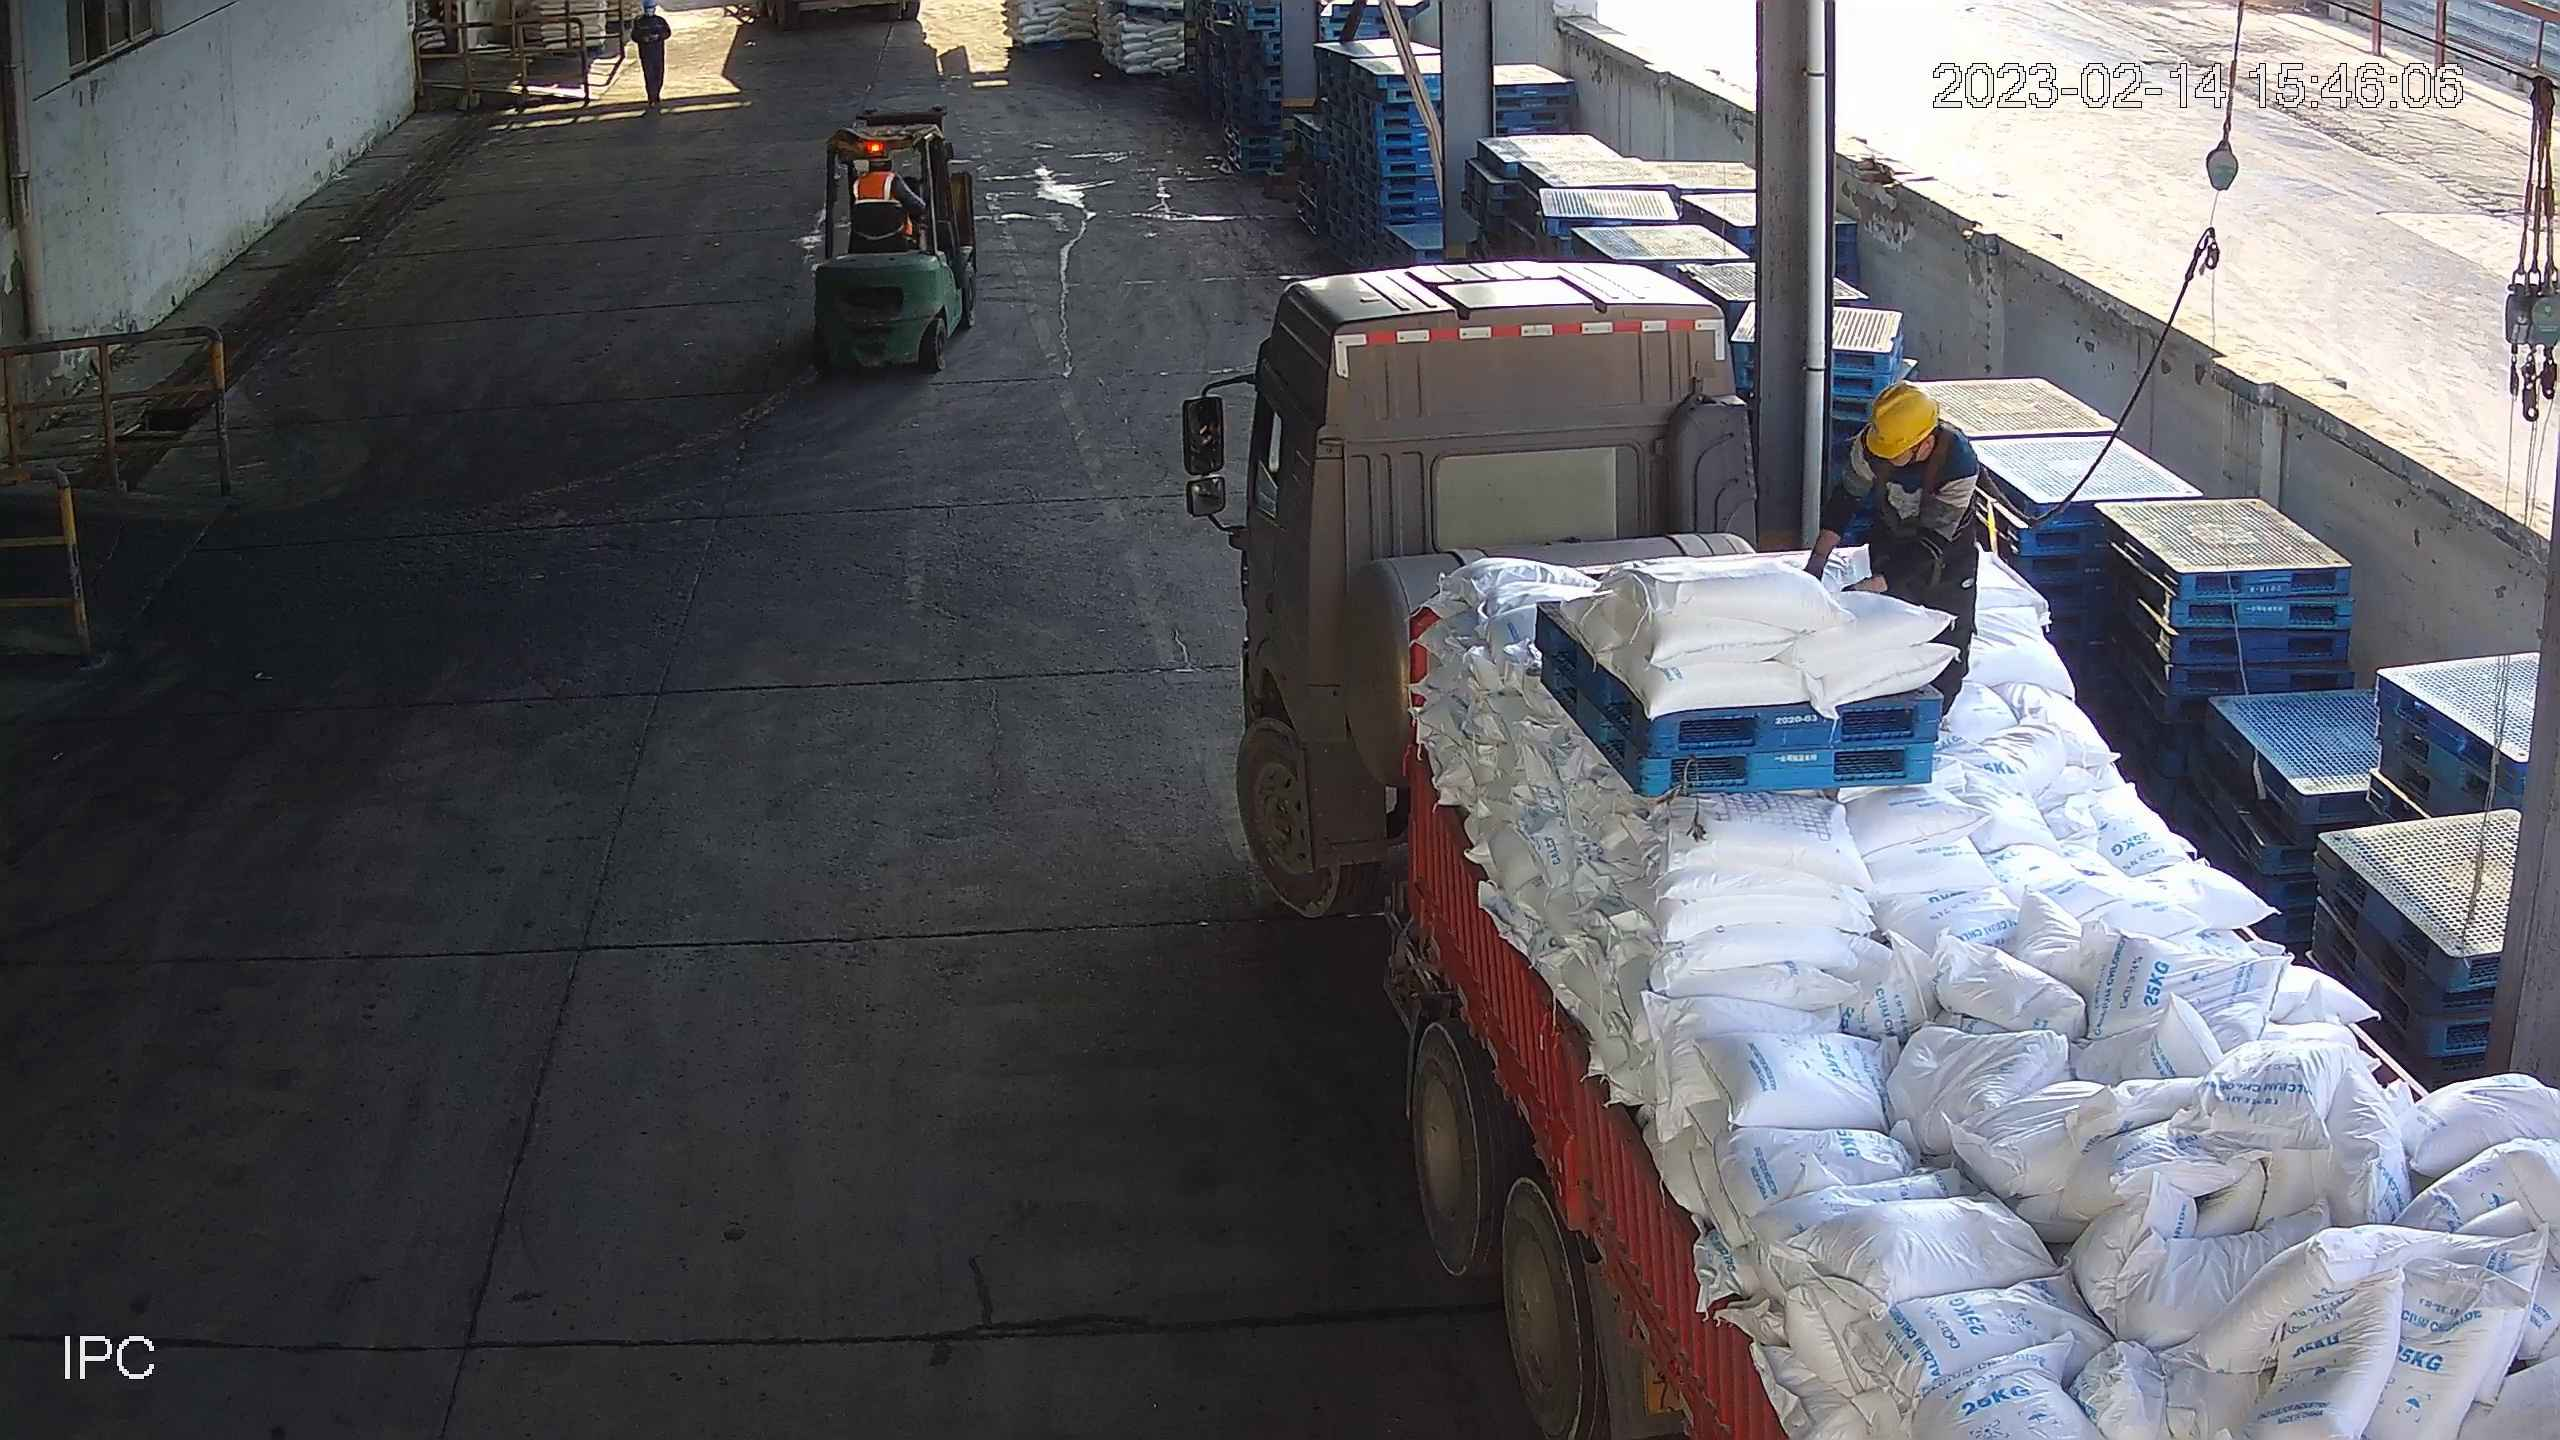belt: (1863, 472, 1937, 536)
head: (1855, 383, 1967, 481), (858, 155, 900, 189), (636, 1, 663, 22)
helmet: (1862, 383, 1941, 453), (642, 1, 657, 8)
people: (1813, 381, 1986, 743), (631, 1, 676, 113)
truck: (1183, 264, 2560, 1440)
